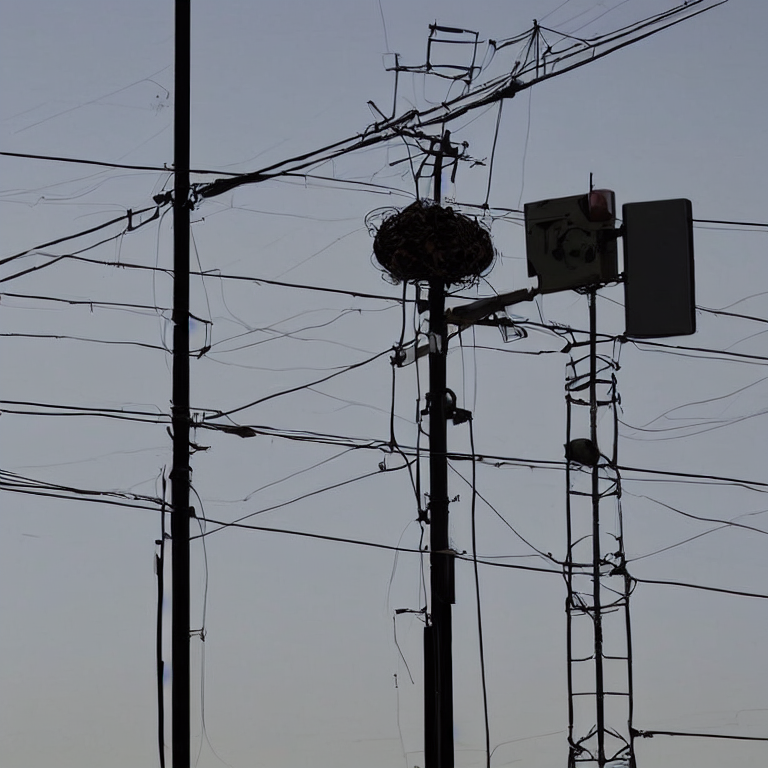nest: (380, 207, 493, 283)
